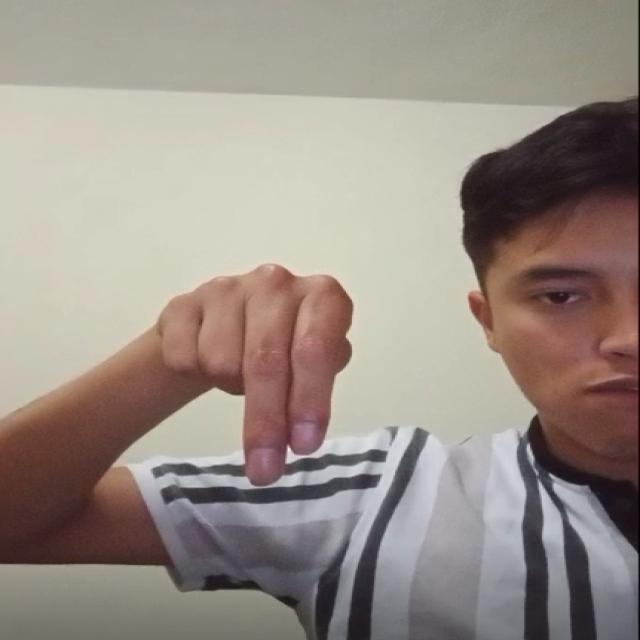N: (136, 230, 416, 490)
